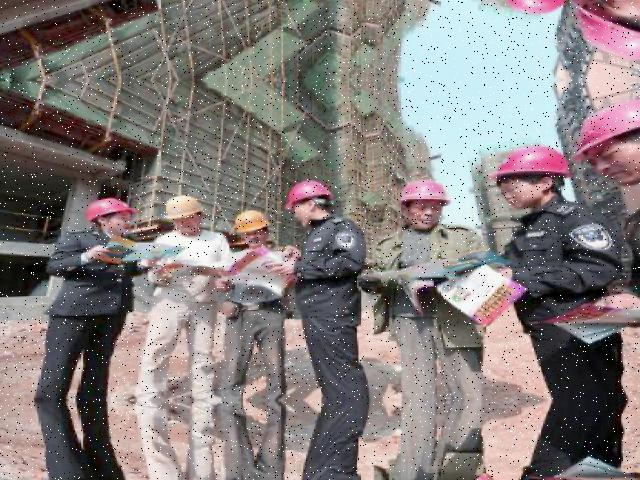Helmet: (565, 97, 639, 167), (484, 142, 574, 186), (279, 176, 337, 213), (390, 177, 451, 210), (82, 193, 135, 229), (161, 191, 203, 223), (231, 207, 270, 234)
